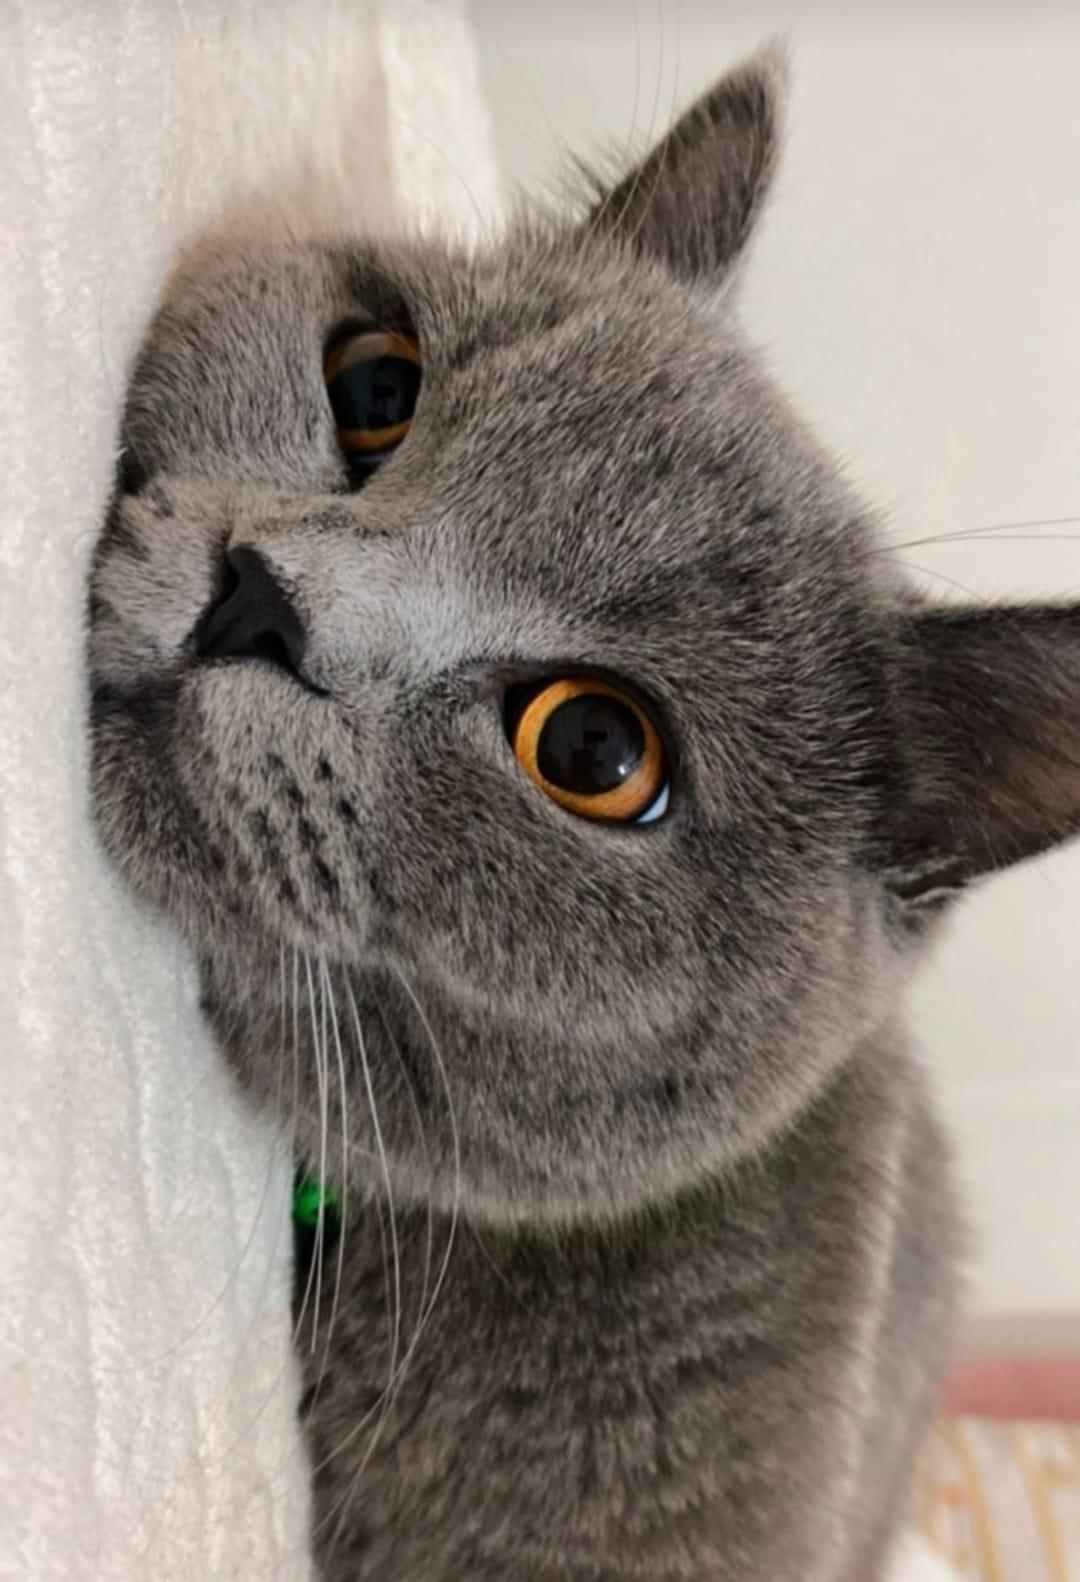kedo: (77, 71, 1080, 1577)
